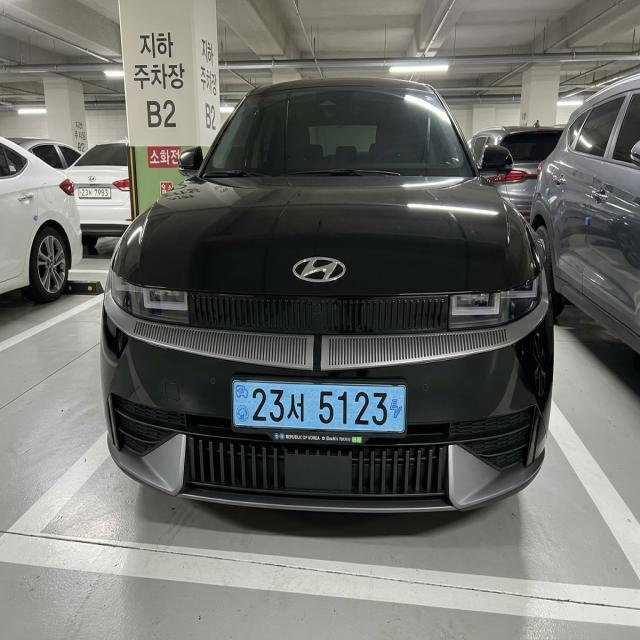car: (223, 356, 411, 458)
carev: (233, 380, 253, 429), (389, 381, 405, 441)
